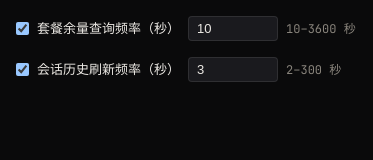
Test: 非法输入（行内红字，不提交不 toast） › 低于下界 → 行内红字 = 范围文案 + 不提交不 toast + 输入保留
Expected: the field labelled "套餐余量查询频率（秒）" is shown, top-left (188, 16), bottom-right (278, 41)
Replace the text in the field labelled "会话历史刷新频率（秒）" with "1" at [233, 70], box top-left (188, 57), bottom-right (278, 82)
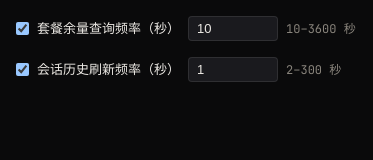
Leave the field labelled "会话历史刷新频率（秒）", box top-left (188, 57), bottom-right (278, 82)
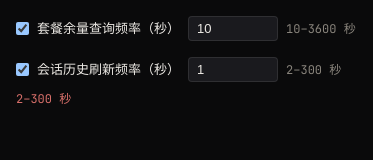
Result: the text with test id "settings-background-tasks-error-sessionRefresh" reads "2–300 秒" at top-left (16, 91), bottom-right (71, 107)
